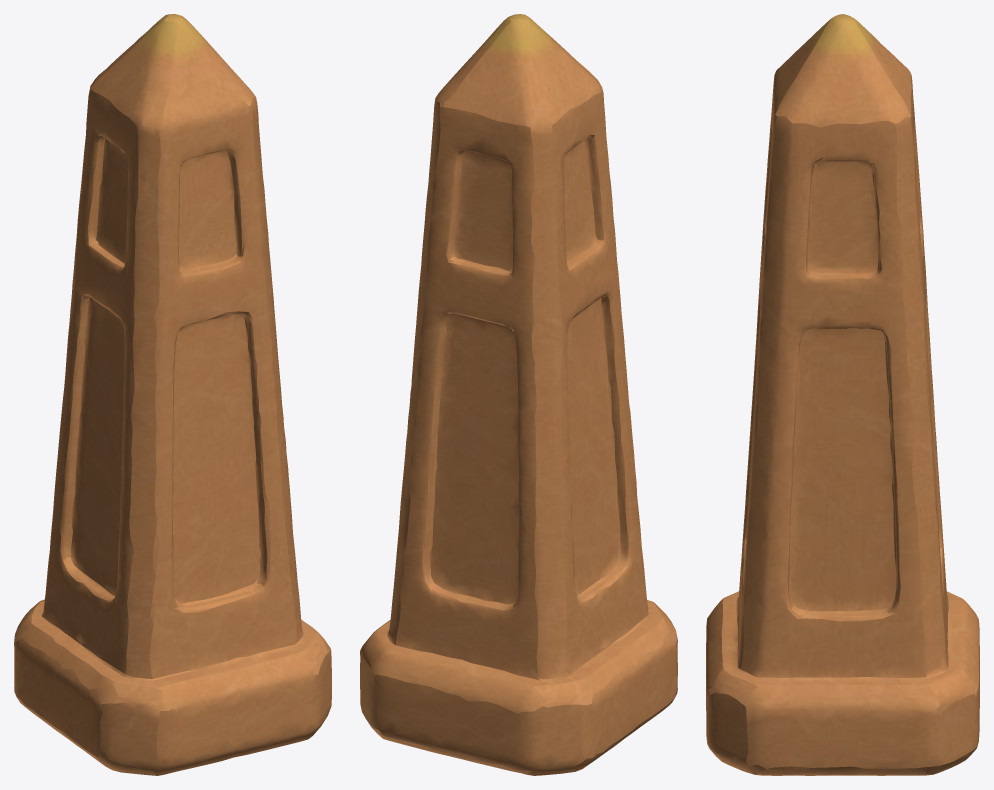
File: lg-desert-obelisk.glb
3 views of the same model, side by side, from view 1: azimuth 30°, elevation 25°; view 2: azimuth 150°, elevation 25°; view 3: azimuth 270°, elevation 25° (orthographic).
Parts seen in each view (by area): view 1: geometry_0; view 2: geometry_0; view 3: geometry_0.
Boxes of the visible parts, box(x1,y1,x2,y2) form: geometry_0: box(14, 14, 331, 775); geometry_0: box(360, 14, 677, 775); geometry_0: box(706, 14, 979, 775).
Size of the model in its own units: 0.3481 by 1 by 0.3505.
Materials: 1 (1 with a texture image).
